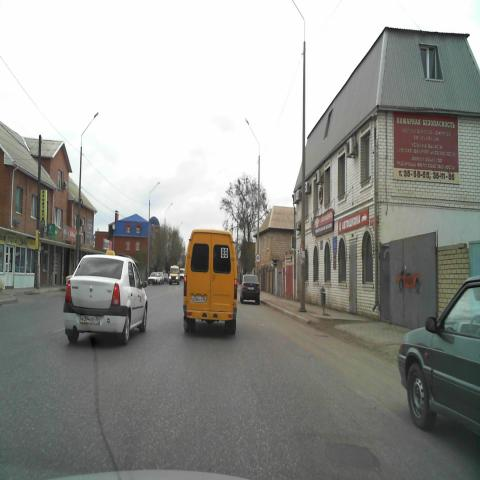3_24: (254, 253, 260, 263)
